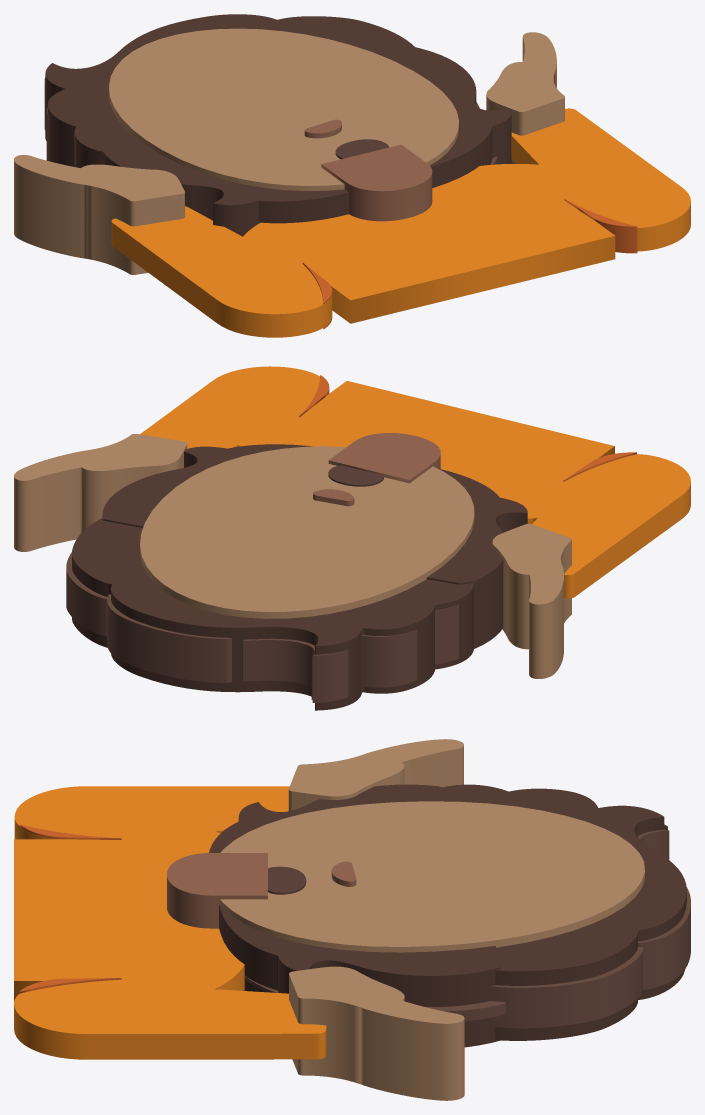
Rendered from emoji_u1f937_1f3fd.glb.
3 renders of one model, top to bottom at view 1: azimuth 30°, elevation 25°; view 2: azimuth 150°, elevation 25°; view 3: azimuth 270°, elevation 25°, orthographic. The views are drawn at different scales.
Visible parts, largest first — view 1: emoji_u1f937_1f3fd; view 2: emoji_u1f937_1f3fd; view 3: emoji_u1f937_1f3fd.
Boxes of the visible parts, box(x1,y1,x2,y2) form: emoji_u1f937_1f3fd: box(14, 14, 690, 337); emoji_u1f937_1f3fd: box(14, 366, 690, 710); emoji_u1f937_1f3fd: box(14, 739, 690, 1100).
Size of the model in its own units: 0.0331 by 0.0052 by 0.0335.
